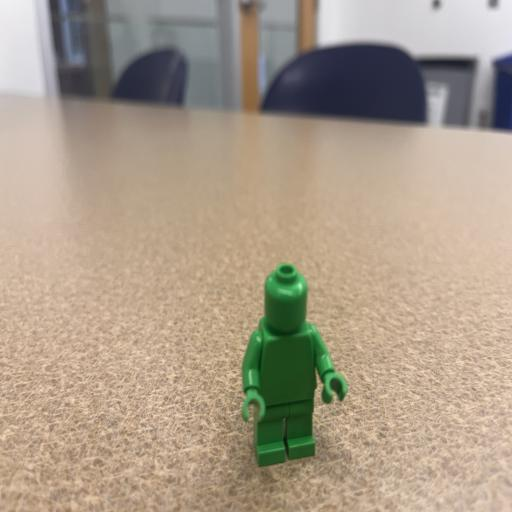Lego-Minifig: (242, 263, 347, 466)
